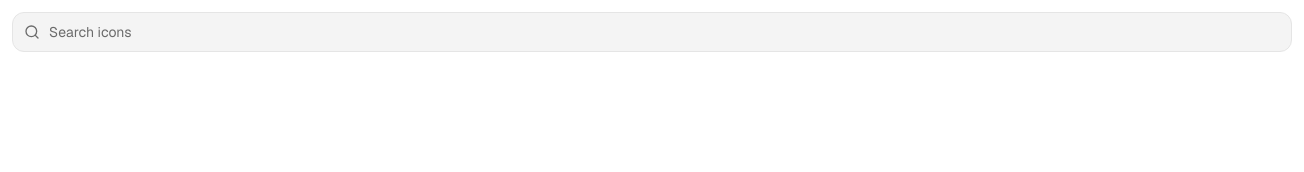
it: <SearchInput /> › clears the text and focuses the input again
The image size is (1304, 172).
Type "arrow" into the search field labelled "Search icons" at (652, 32), box [12,12,1292,52]
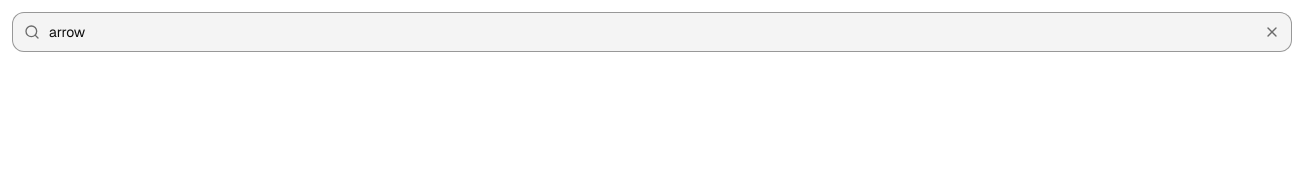
Click the button named "clear search" at (1272, 32), box [1260,20,1284,44]
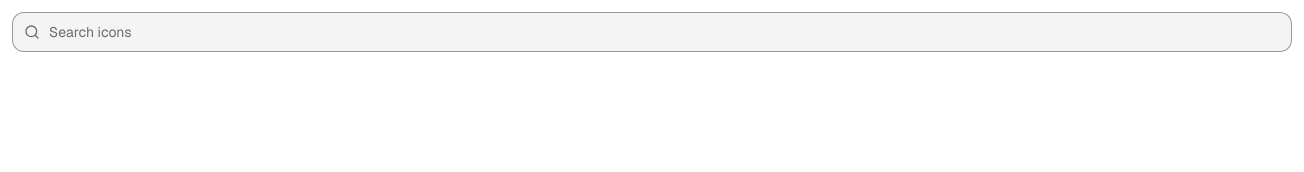
Expected: the search field labelled "Search icons" is empty, [12,12,1292,52]
